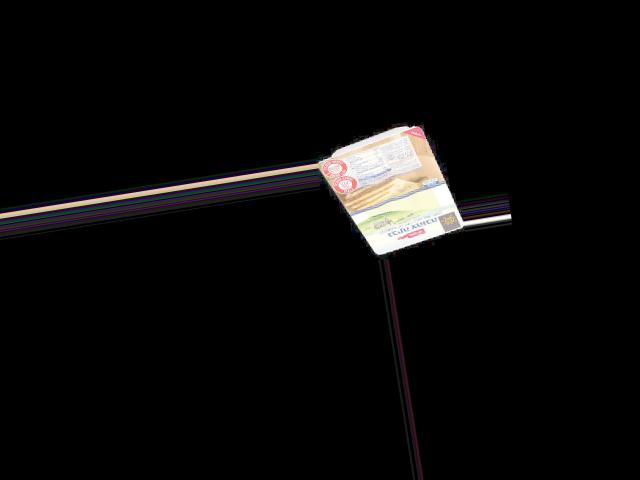cheese: (334, 123, 455, 257)
